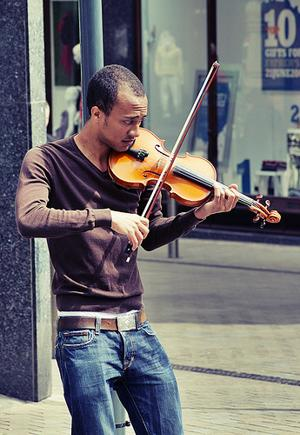person: (16, 67, 240, 435)
